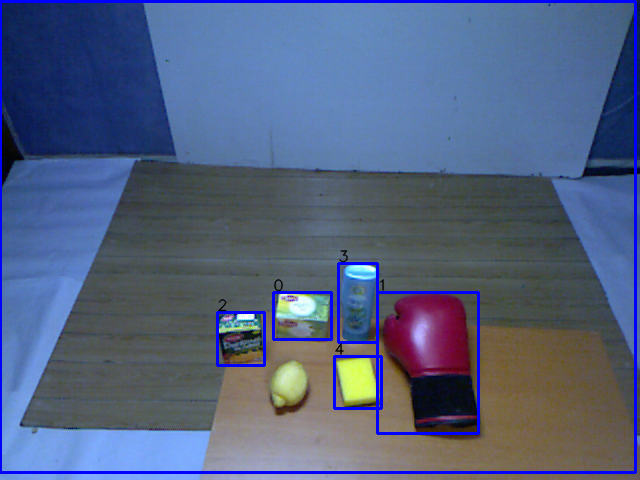balsamo: (335, 260, 379, 349)
durazno: (212, 308, 268, 367)
esponja: (330, 351, 387, 412)
guante: (381, 288, 489, 438)
limon: (263, 356, 311, 416)
te: (271, 284, 335, 346)
